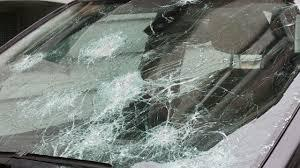Front-Windscreen-Damage: (34, 0, 268, 157)
